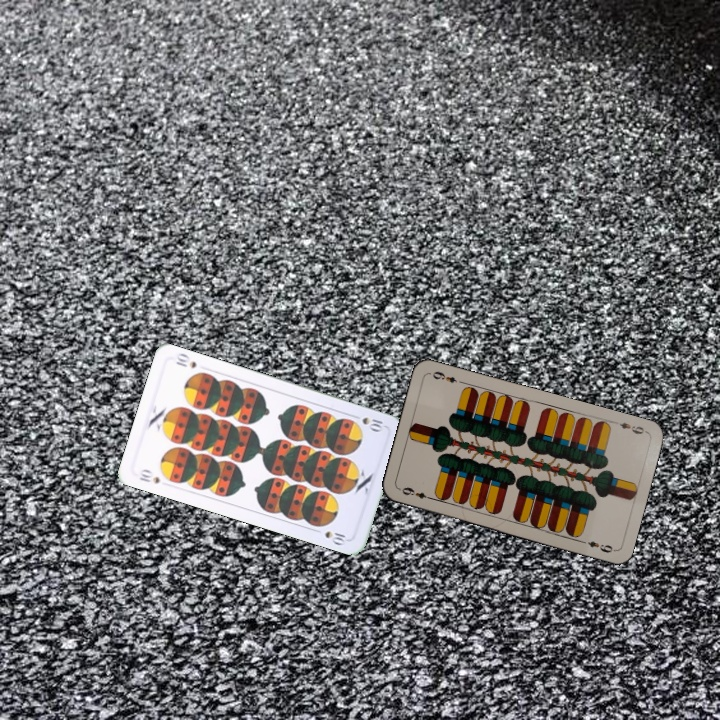E9: (609, 417, 649, 437), (396, 483, 435, 502)
S10: (358, 413, 388, 434), (135, 465, 162, 486)
